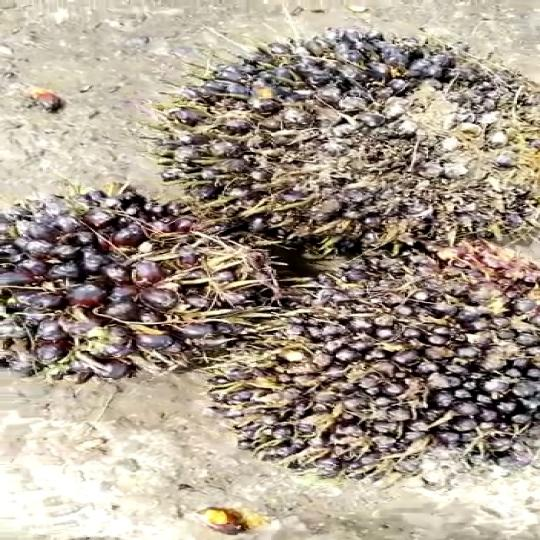mentah: (133, 23, 540, 244), (195, 244, 540, 466), (1, 178, 258, 388)
